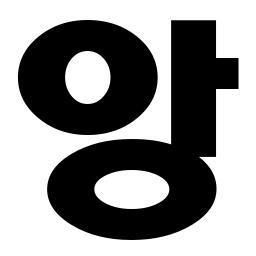Gaji: (161, 45, 232, 110)
